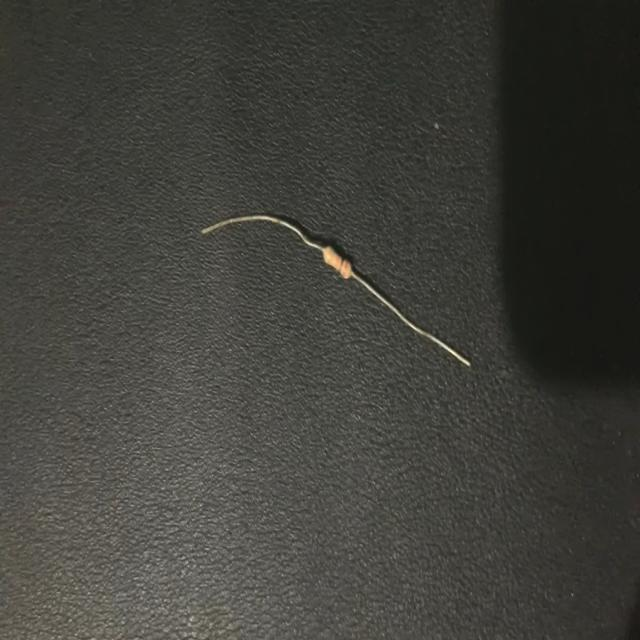resistor: (199, 187, 475, 383)
